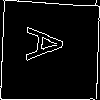A: (25, 26, 73, 63)
